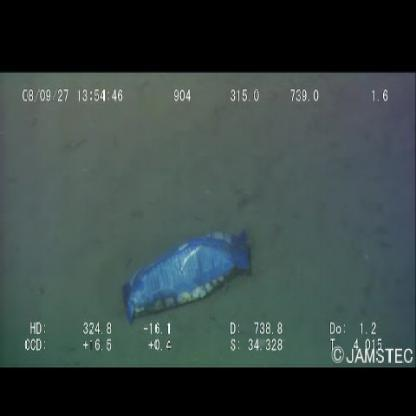Rác: (115, 224, 263, 328)
